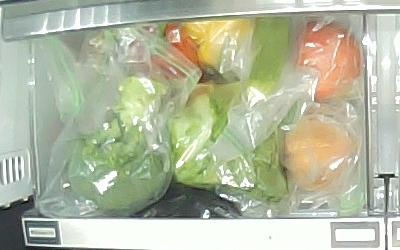apple_vinyl: (296, 20, 362, 104)
broccoli_vinyl: (65, 75, 171, 214)
lettuce_vinyl: (166, 85, 287, 203)
paprika_vinyl: (136, 23, 200, 77), (183, 19, 253, 68)
peach_vinyl: (283, 115, 353, 192)
